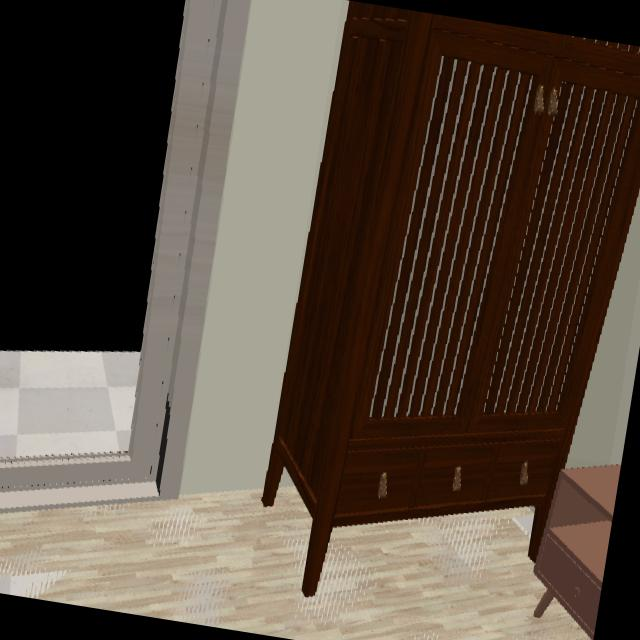nighttable: (535, 466, 620, 640)
wardrobe: (263, 2, 640, 598)
